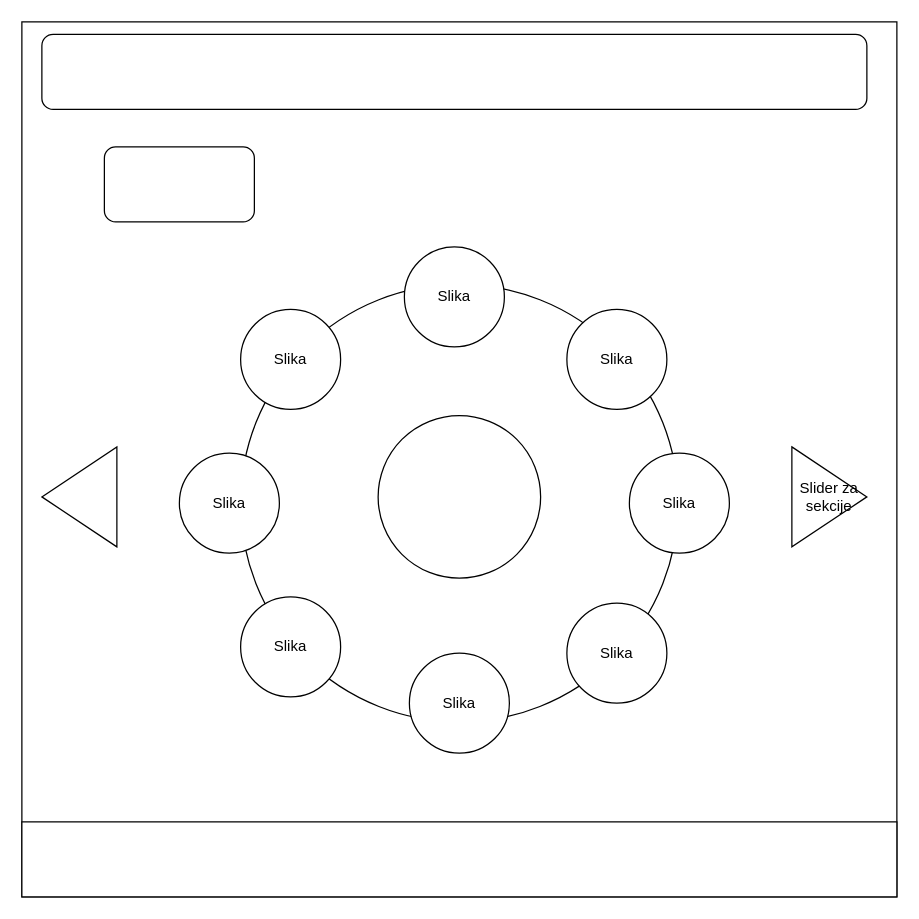
Image size: 919x919. Some labels were removed from this diagram. The shapes that lost their labels are listed below. From the top down, each one's centre as x and y in pixels, then its label:
At pixel 454 71: "Nav bar".
At pixel 178 184: "Mozda budu tagovi koji oznacavaju sekcije".
At pixel 459 496: "Ime sekcije".
At pixel 459 859: "Footer".
